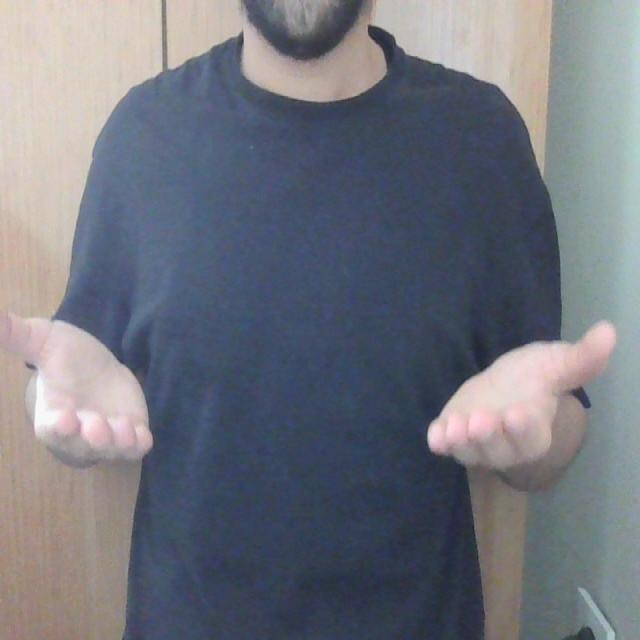Evet: (0, 298, 618, 478)
